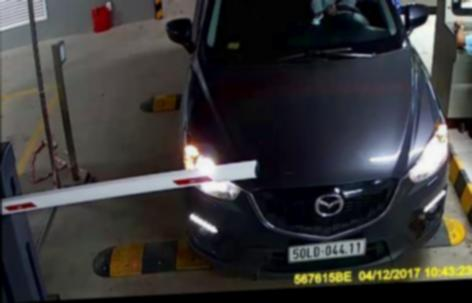License_Plate: (287, 237, 367, 262)
